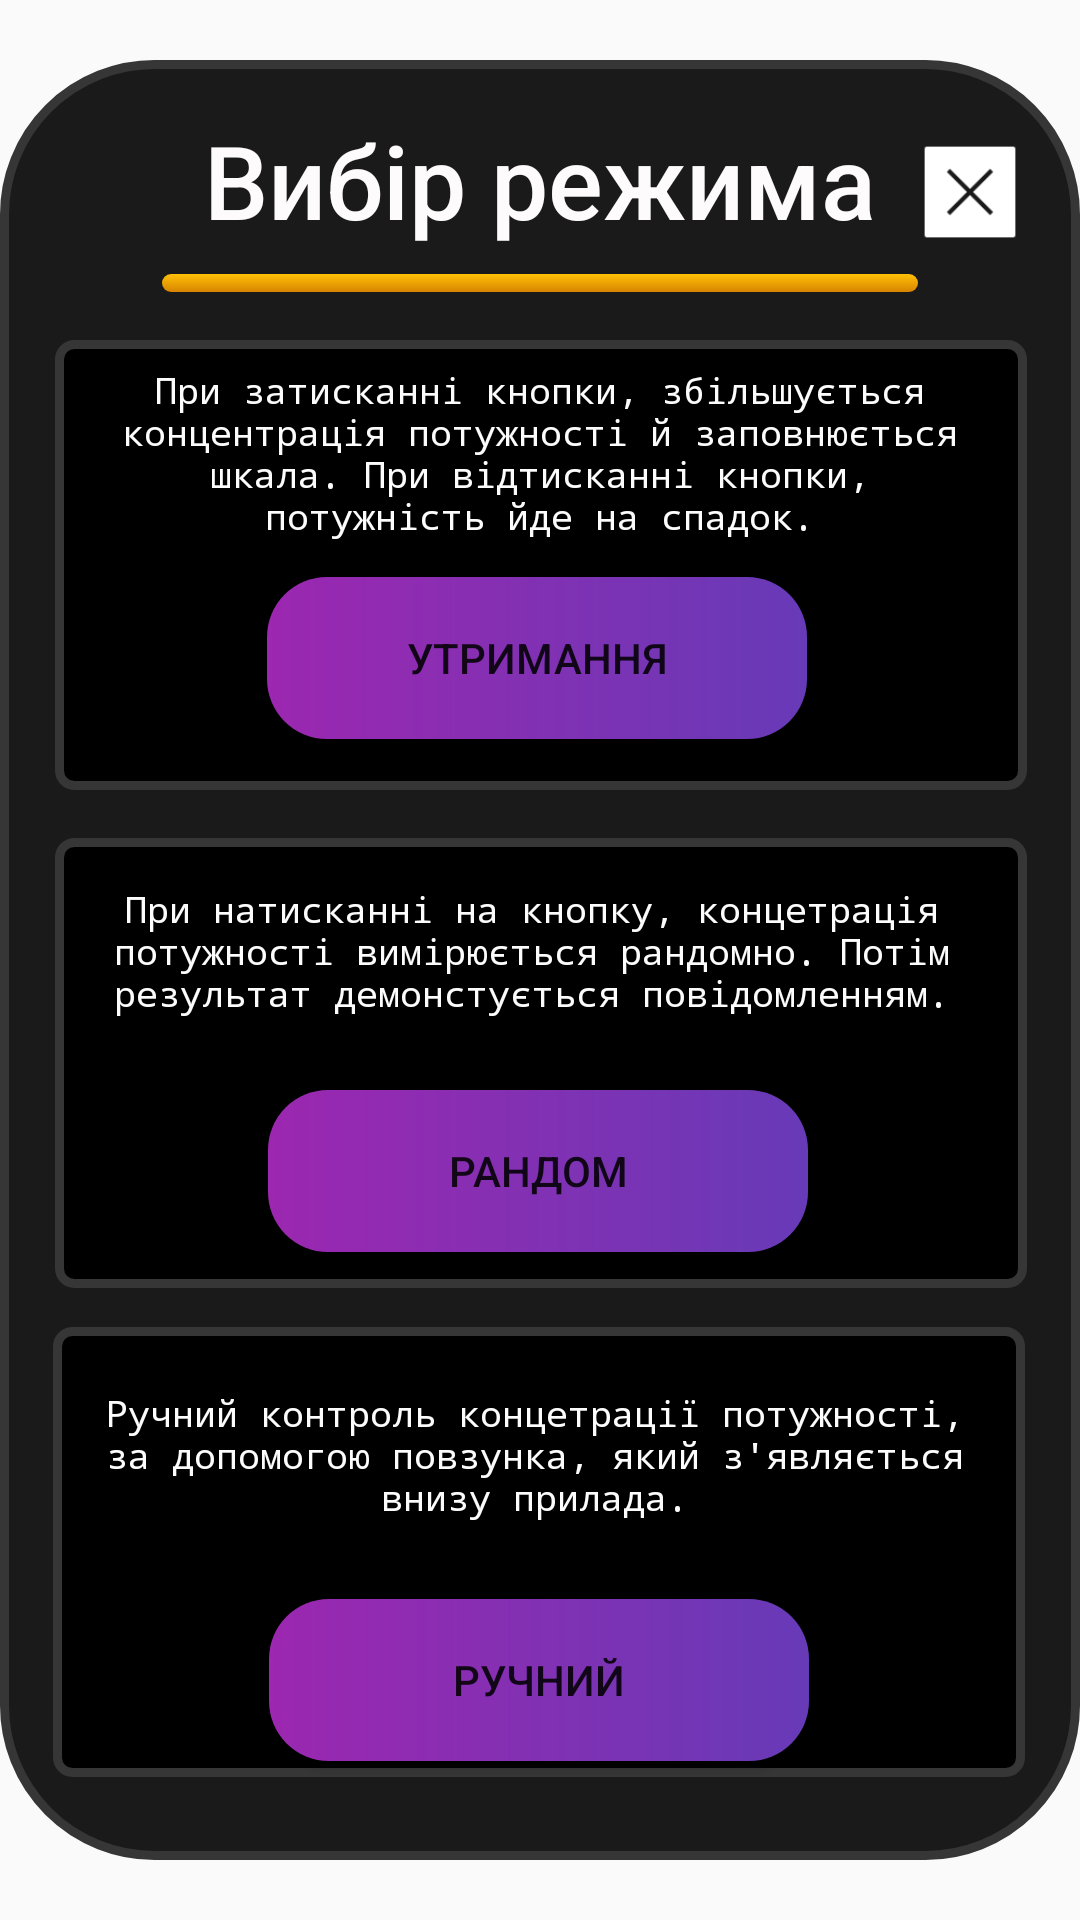

Where to tap for icons on this 1080px×1920px app screen, as (x,y):
multiplication: (970,192)
